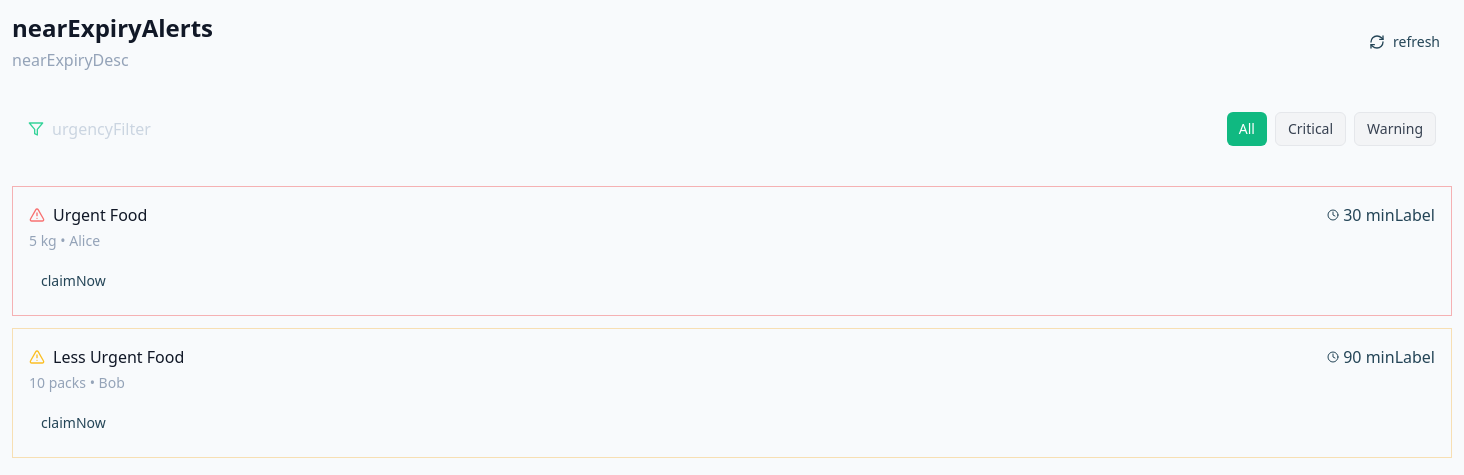
Scenario: NearExpiryAlerts › filters by critical urgency
Expected: the text "Urgent Food" is shown, [29,203,147,227]
Click the button "critical" at {"x": 1311, "y": 129}, box [1275,112,1346,146]
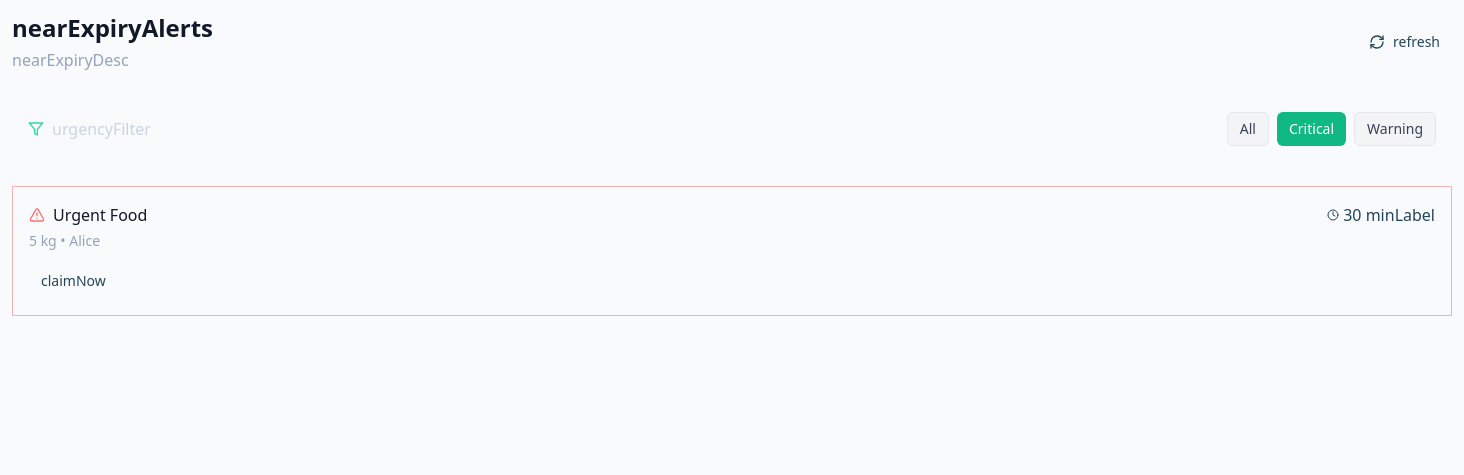
Expected: the text "Urgent Food" is shown, [29,203,147,227]
Now the text "Less Urgent Food" is gone
